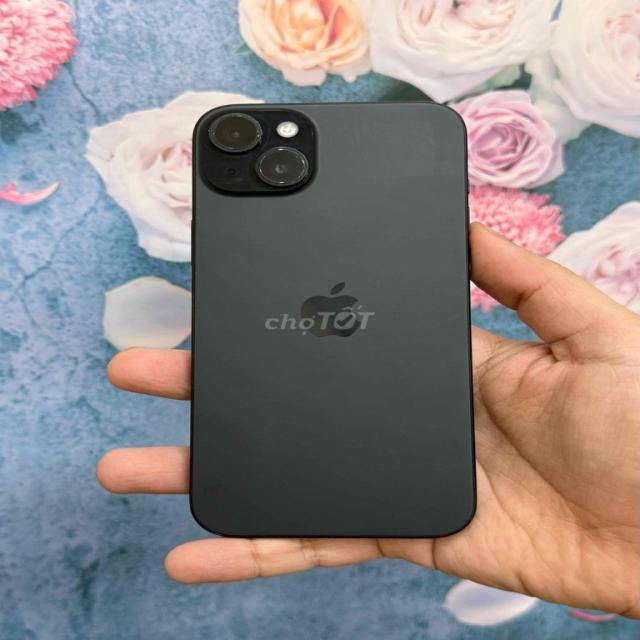scratch: (205, 112, 309, 195)
